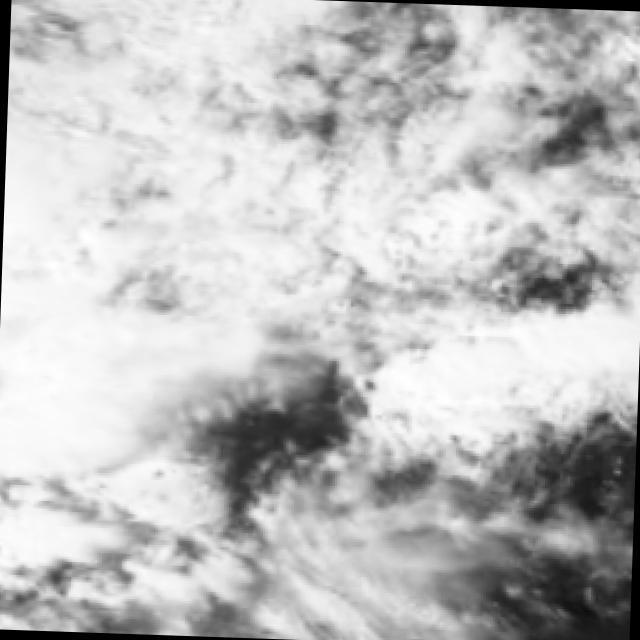CB: (9, 74, 126, 308), (0, 300, 149, 461)
